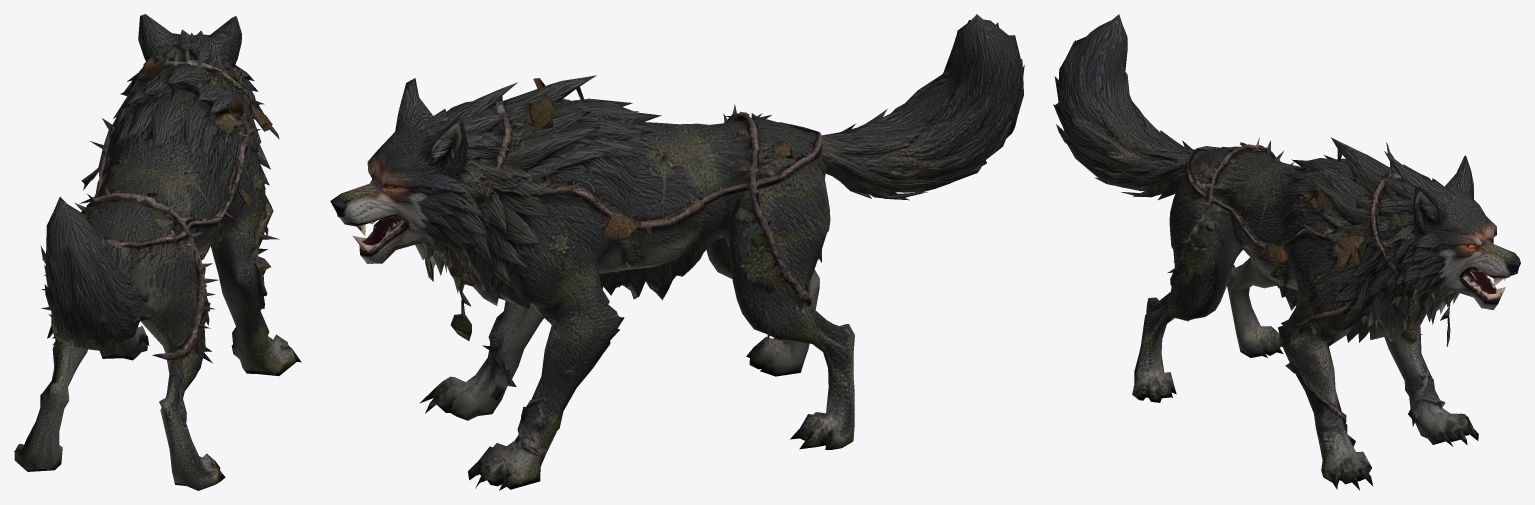
File: lobo.glb
3 renders of one model, left to right at view 1: azimuth 30°, elevation 25°; view 2: azimuth 150°, elevation 25°; view 3: azimuth 270°, elevation 25°, orthographic. The views are drawn at different scales.
Parts seen in each view (by area): view 1: tripo_node_45f9dd4d-7527-4327-9201-ff5f64755c3c; view 2: tripo_node_45f9dd4d-7527-4327-9201-ff5f64755c3c; view 3: tripo_node_45f9dd4d-7527-4327-9201-ff5f64755c3c.
Part boxes in pixels (bbox=[...]): tripo_node_45f9dd4d-7527-4327-9201-ff5f64755c3c: bbox=[14, 14, 301, 490]; tripo_node_45f9dd4d-7527-4327-9201-ff5f64755c3c: bbox=[330, 14, 1024, 490]; tripo_node_45f9dd4d-7527-4327-9201-ff5f64755c3c: bbox=[1053, 14, 1520, 490].
Bounding box in the file's own units: 0.6956 × 0.581 × 0.7814.
1 material, 1 textured.
